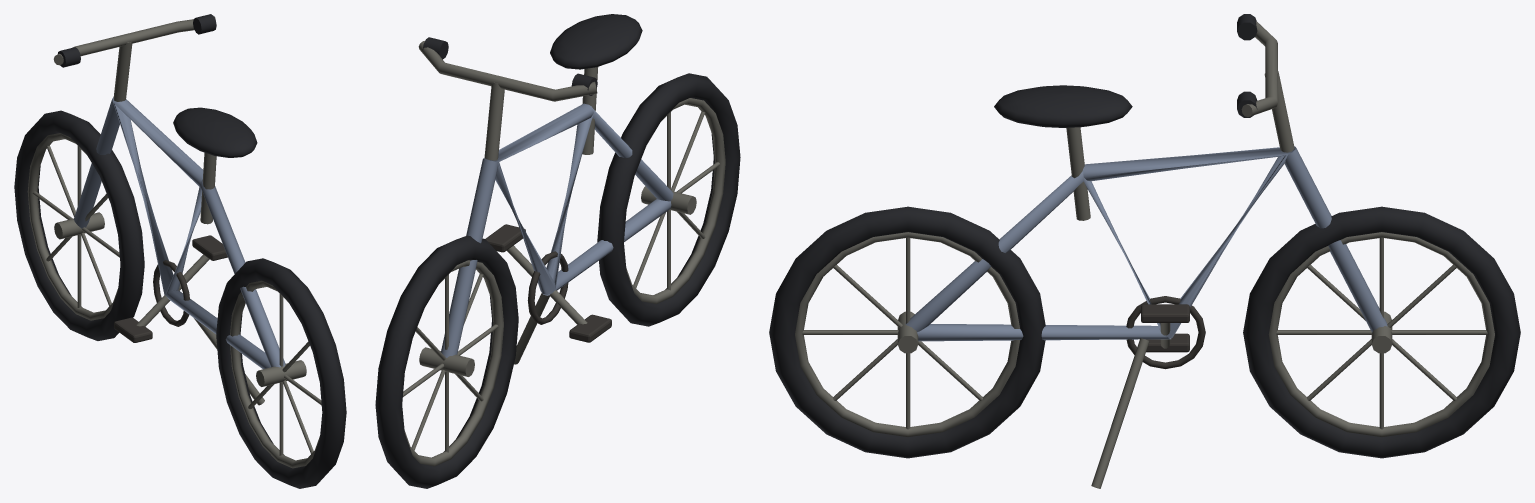
File: MS_SP_15_ParkedBicycle.glb
The picture shows the model from 3 angles, left to right: view 1: azimuth 30°, elevation 25°; view 2: azimuth 150°, elevation 25°; view 3: azimuth 270°, elevation 25°; orthographic projection. The views are drawn at different scales.
Parts seen in each view (by area): view 1: Grip, Axle, Frame, ChainRing; view 2: Grip, Axle, Frame, ChainRing; view 3: Grip, Axle, Frame, ChainRing.
Boxes of the visible parts, <box> form: Grip: <box>14,14,346,488</box>; Axle: <box>27,16,321,468</box>; Frame: <box>73,97,285,369</box>; ChainRing: <box>114,235,227,342</box>; Grip: <box>375,14,740,488</box>; Axle: <box>403,41,725,466</box>; Frame: <box>441,103,673,357</box>; ChainRing: <box>485,224,611,342</box>; Grip: <box>769,14,1520,458</box>; Axle: <box>795,21,1494,488</box>; Frame: <box>905,146,1387,341</box>; ChainRing: <box>1126,296,1205,369</box>.
Size of the model in its own units: 0.5378 by 1.08 by 1.84.
